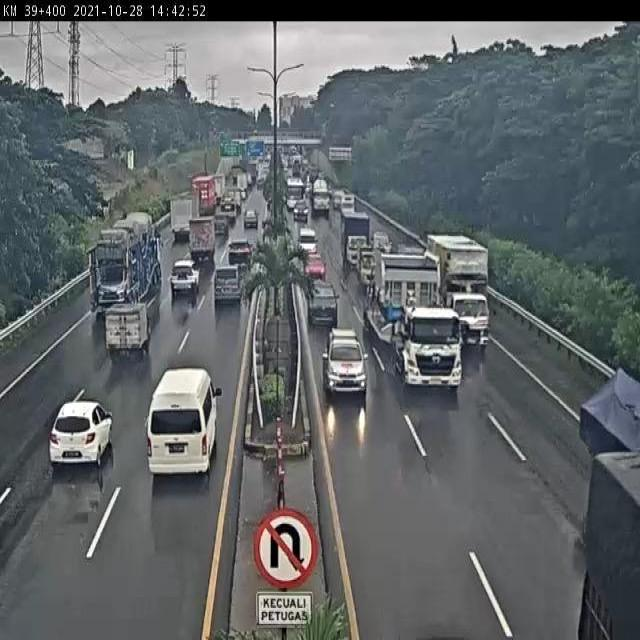big truck: (83, 215, 159, 321)
car: (42, 402, 114, 469), (323, 327, 368, 393), (306, 274, 339, 326), (165, 262, 196, 298), (212, 270, 238, 306), (225, 240, 253, 268), (304, 250, 327, 278)
small bus: (144, 364, 227, 481)
small truck: (96, 311, 145, 364)
truck-l-: (428, 236, 492, 352)
truck-m-: (340, 210, 373, 266), (186, 220, 215, 267), (357, 243, 376, 288)
truck-xl-: (364, 236, 462, 389)
